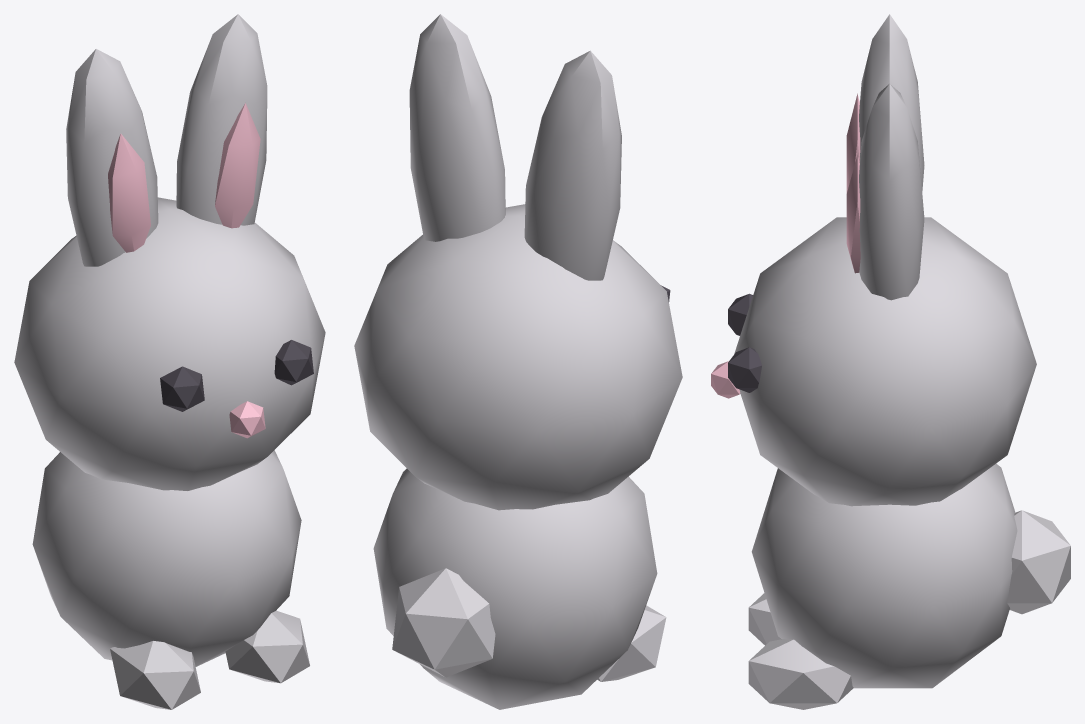
Rendered from pet_bunny.glb.
3 renders of one model, left to right at view 1: azimuth 30°, elevation 25°; view 2: azimuth 150°, elevation 25°; view 3: azimuth 270°, elevation 25°, orthographic. The views are drawn at different scales.
Visible parts, largest first — view 1: pet_bunny; view 2: pet_bunny; view 3: pet_bunny.
Boxes of the visible parts, bbox=[...] form: pet_bunny: bbox=[14, 14, 325, 709]; pet_bunny: bbox=[354, 14, 682, 709]; pet_bunny: bbox=[711, 14, 1070, 709].
Size of the model in its own units: 0.2663 by 0.6086 by 0.3128.
